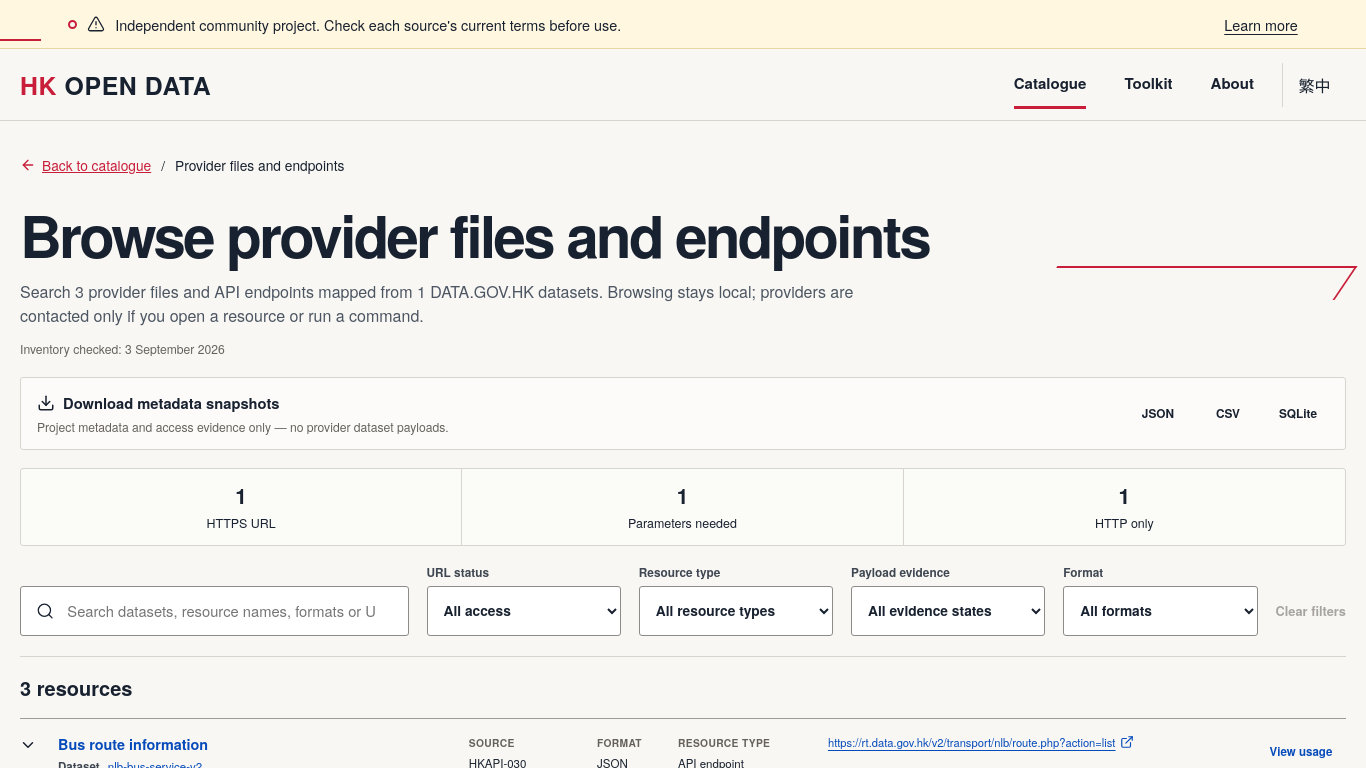
Test case: provider-resource browser › loads the local inventory only on its route and exposes source-scoped filtering
Expected: the heading "Browse provider files and endpoints" is shown, left=20, top=207, right=970, bottom=264
Expected: the heading "3 resources" is shown, left=20, top=673, right=132, bottom=702
Type "HKAPI-076" into the search field at (229, 611), box left=65, top=588, right=392, bottom=634
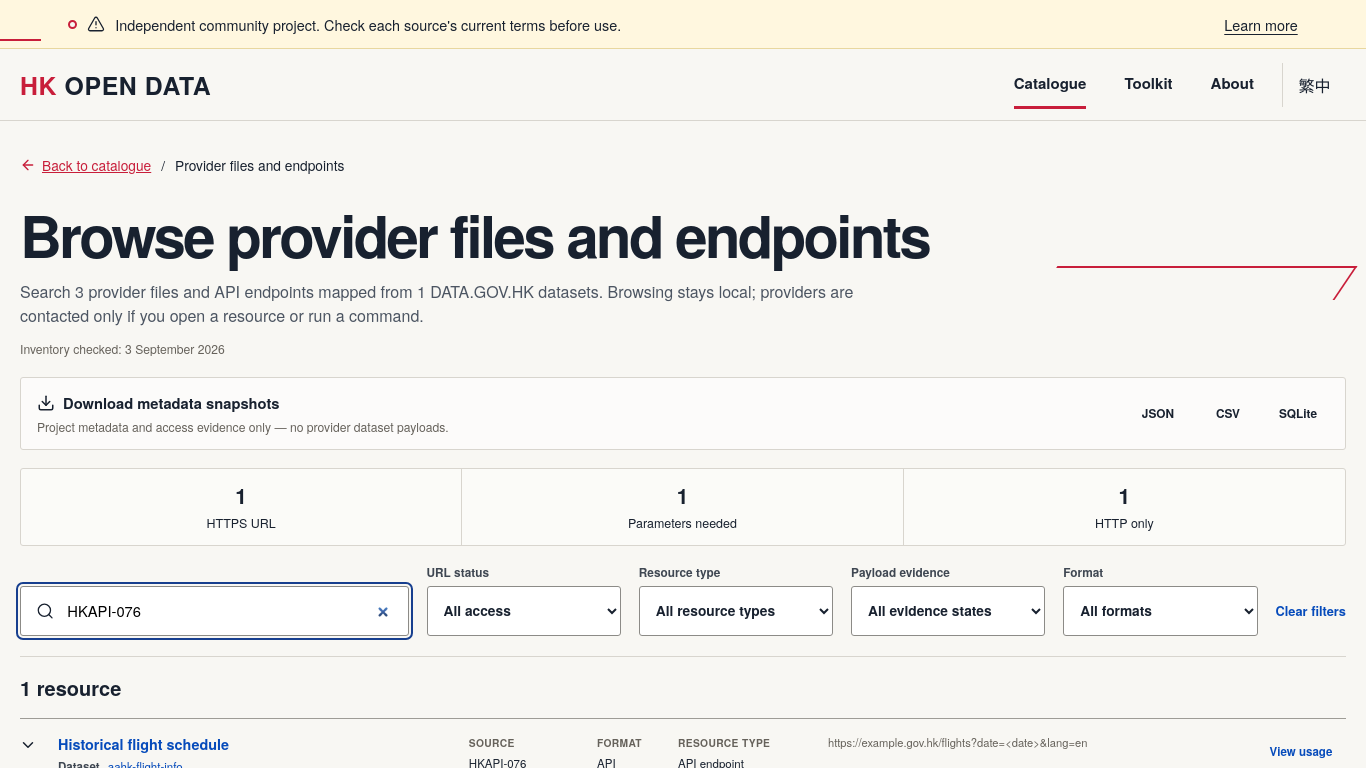
Expected: the heading "Historical flight schedule" is shown, left=58, top=734, right=229, bottom=754
Result: the heading "1 resource" is shown at left=20, top=673, right=121, bottom=702
Clear the search field at (229, 611), box left=65, top=588, right=392, bottom=634
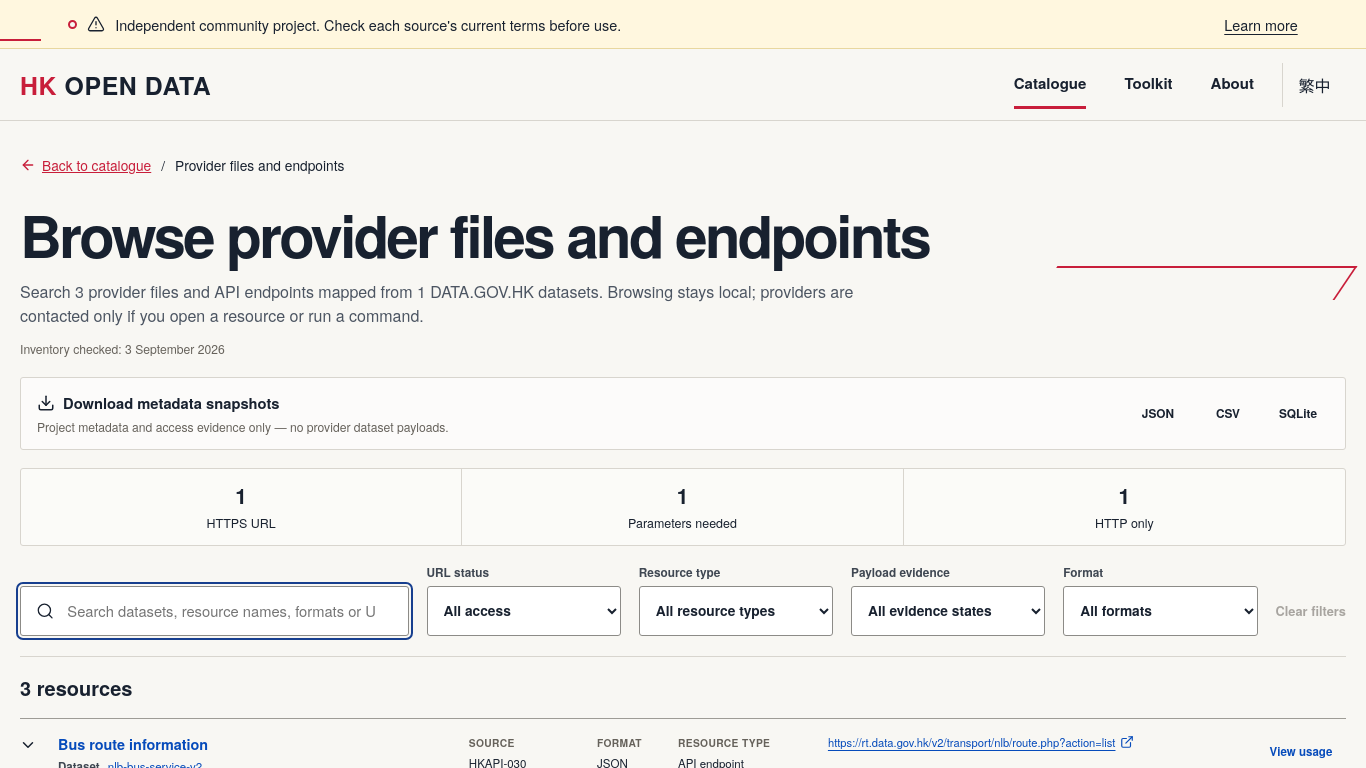
Select "HTTP only" in the dropdown labelled "URL status" at (524, 611), box left=426, top=586, right=621, bottom=636
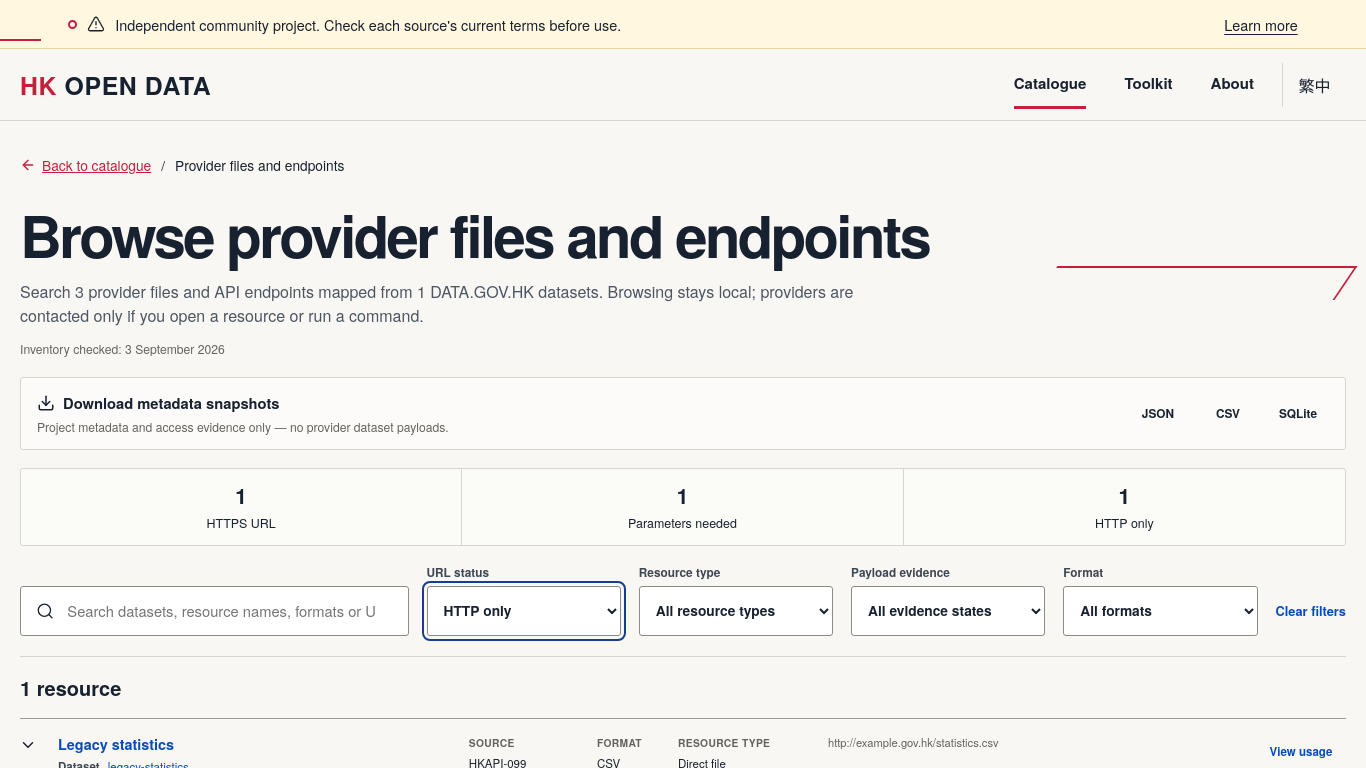
Result: the heading "Legacy statistics" is shown at left=58, top=734, right=174, bottom=754
Result: the heading "1 resource" is shown at left=20, top=673, right=121, bottom=702
Select "All access" in the dropdown labelled "URL status" at (524, 611), box left=426, top=586, right=621, bottom=636
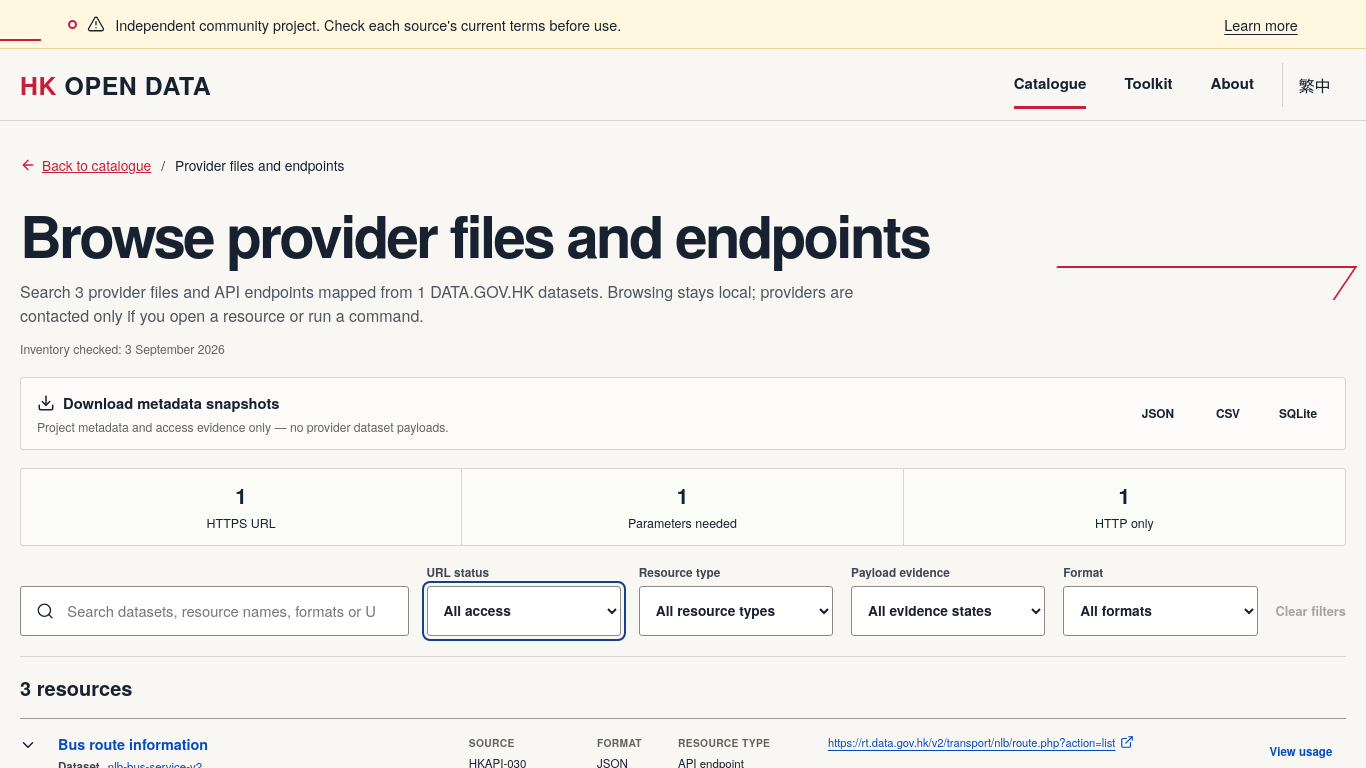
Select "JSON" in the dropdown labelled "Format" at (1160, 611), box left=1063, top=586, right=1258, bottom=636
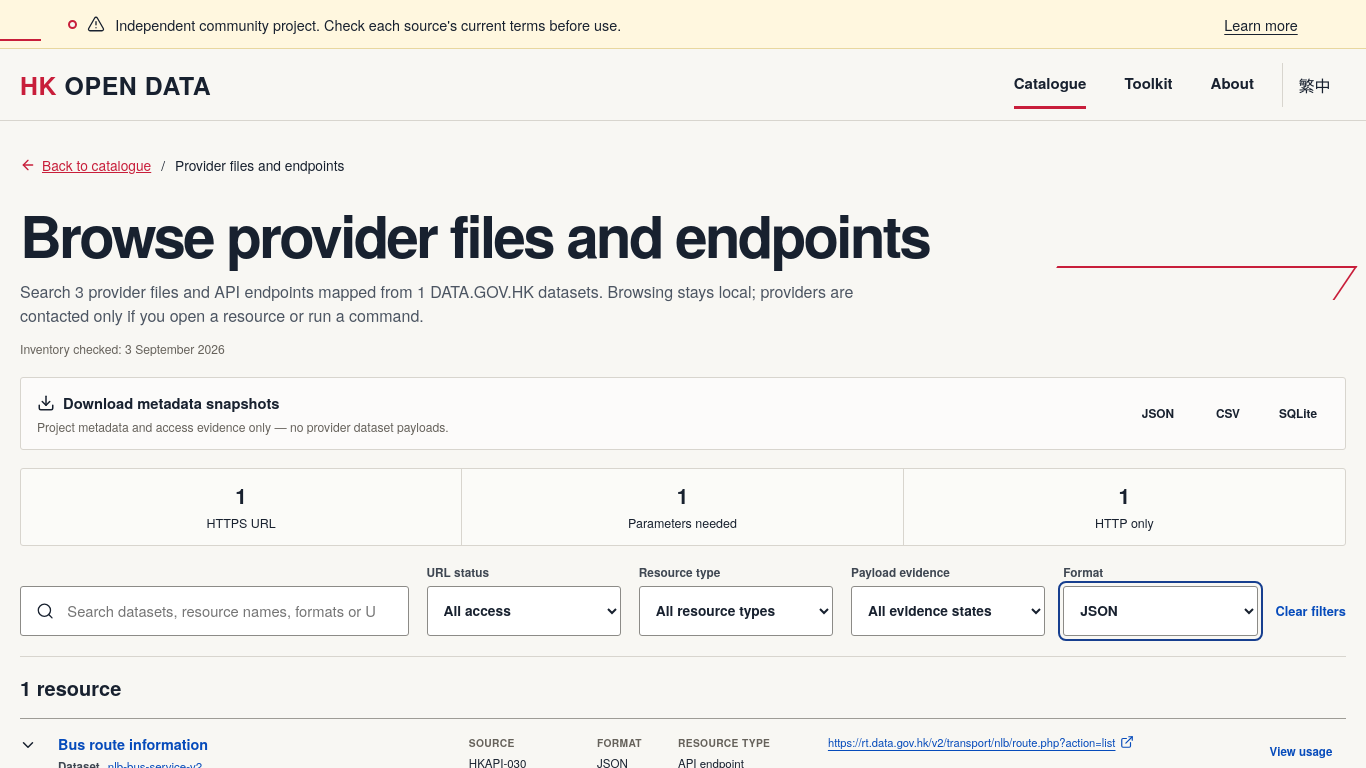
Result: the heading "Bus route information" is shown at left=58, top=734, right=208, bottom=754
Result: the heading "1 resource" is shown at left=20, top=673, right=121, bottom=702
